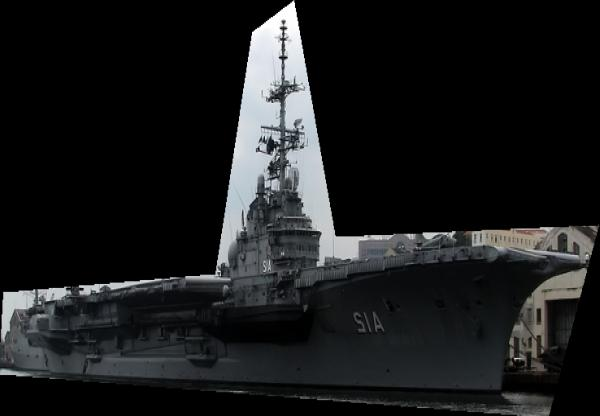Aircraft Carrier: (0, 0, 600, 416)
